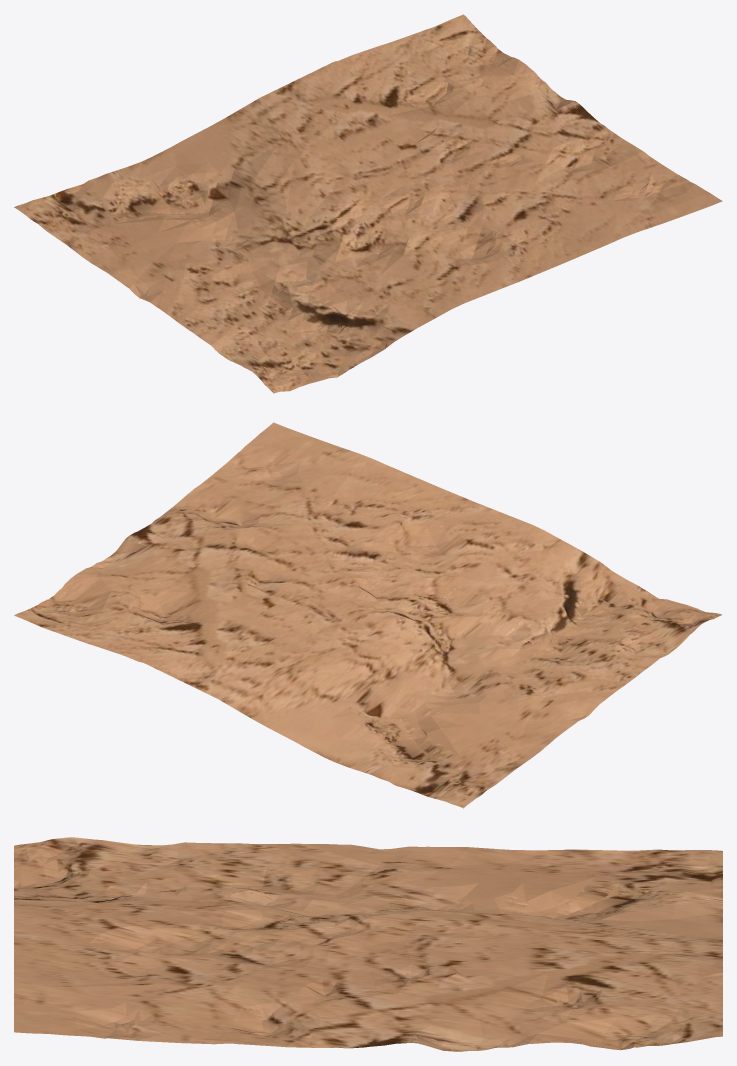
3 renders of one model, top to bottom at view 1: azimuth 30°, elevation 25°; view 2: azimuth 150°, elevation 25°; view 3: azimuth 270°, elevation 25°, orthographic. The views are drawn at different scales.
Size of the model in its own units: 1.04 by 0.1921 by 1.04.
2 materials, 2 textured.
